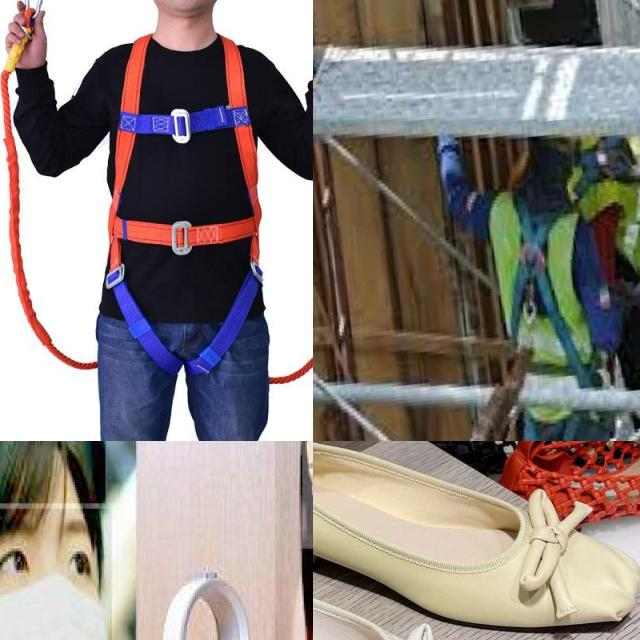Harness: (103, 32, 264, 374), (504, 191, 591, 374)
Sandals: (313, 441, 640, 640), (313, 488, 552, 640)
face_mask: (0, 508, 111, 640)
head_nohelmet: (0, 441, 106, 505)
person: (0, 441, 140, 640)
